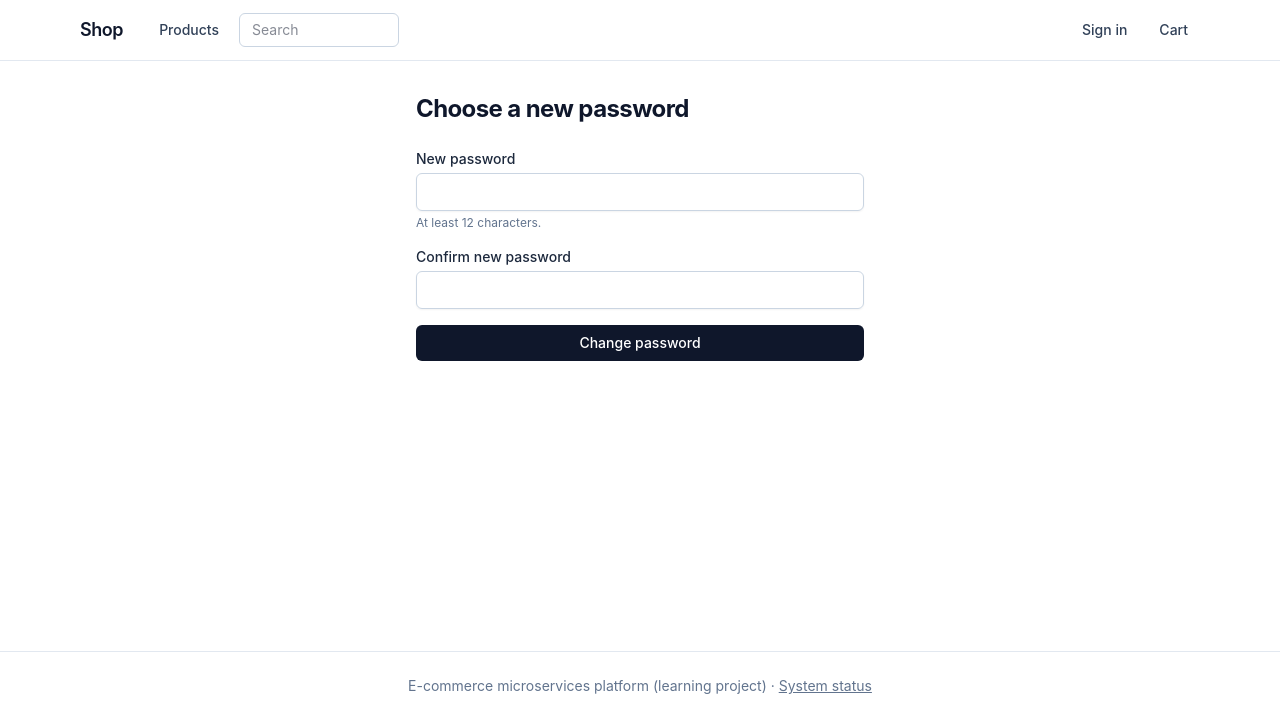
Test case: reset password link › removes the secret token from the address bar as soon as it is read, and uses it
The width and height of the screenshot is (1280, 720).
In the password field labelled "New password": (640, 192) [416, 173, 864, 211], type "a brand new passphrase"
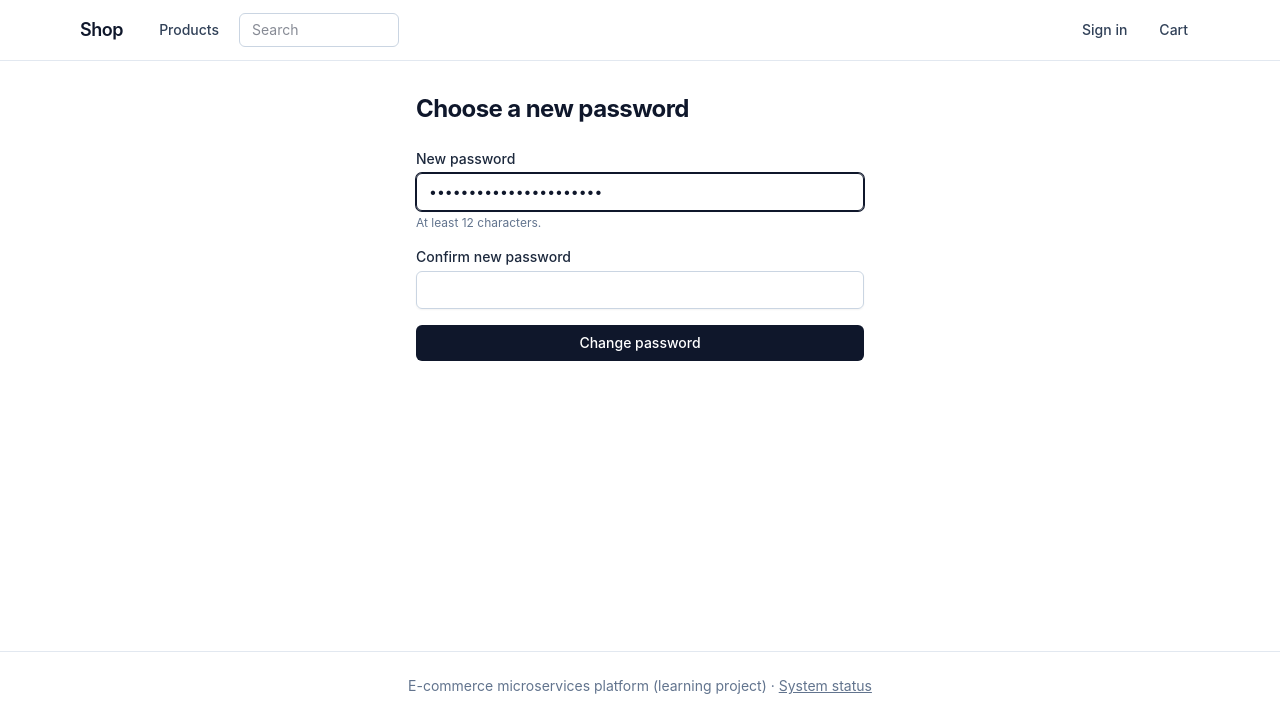
In the password field labelled "Confirm new password": (640, 290) [416, 271, 864, 309], type "a brand new passphrase"
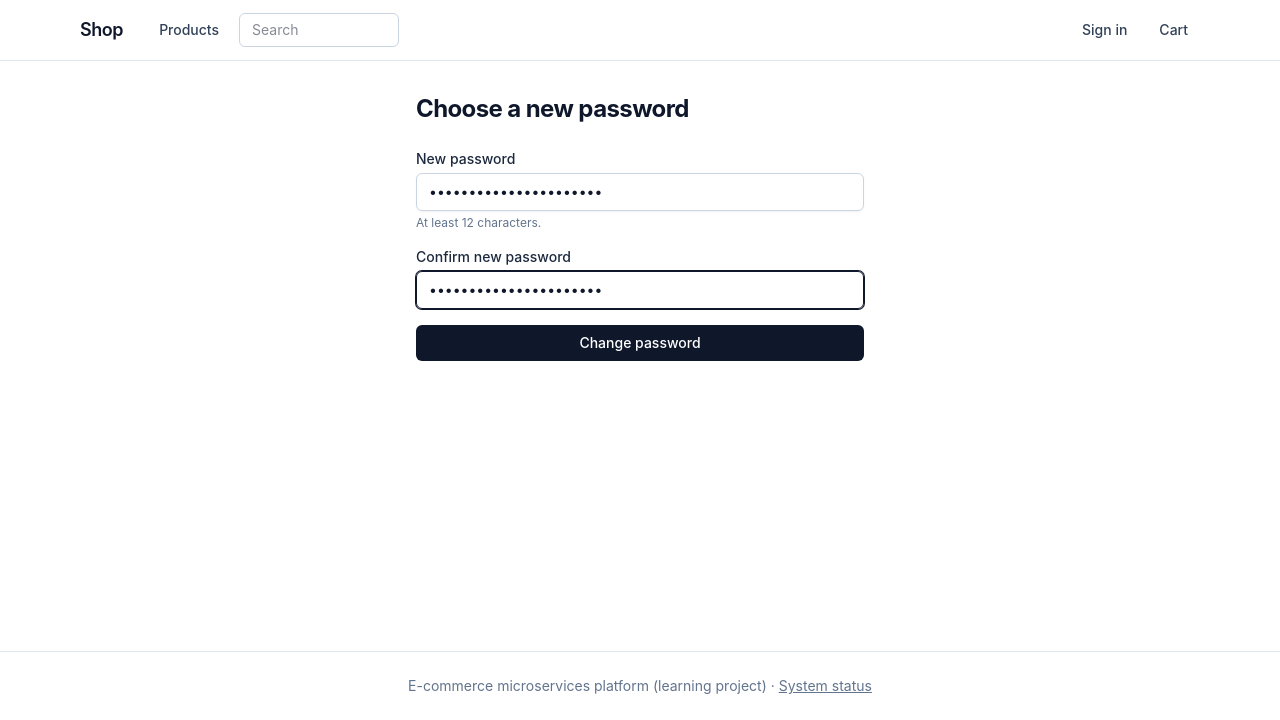
Click the button "Change password": (640, 343) [416, 325, 864, 361]
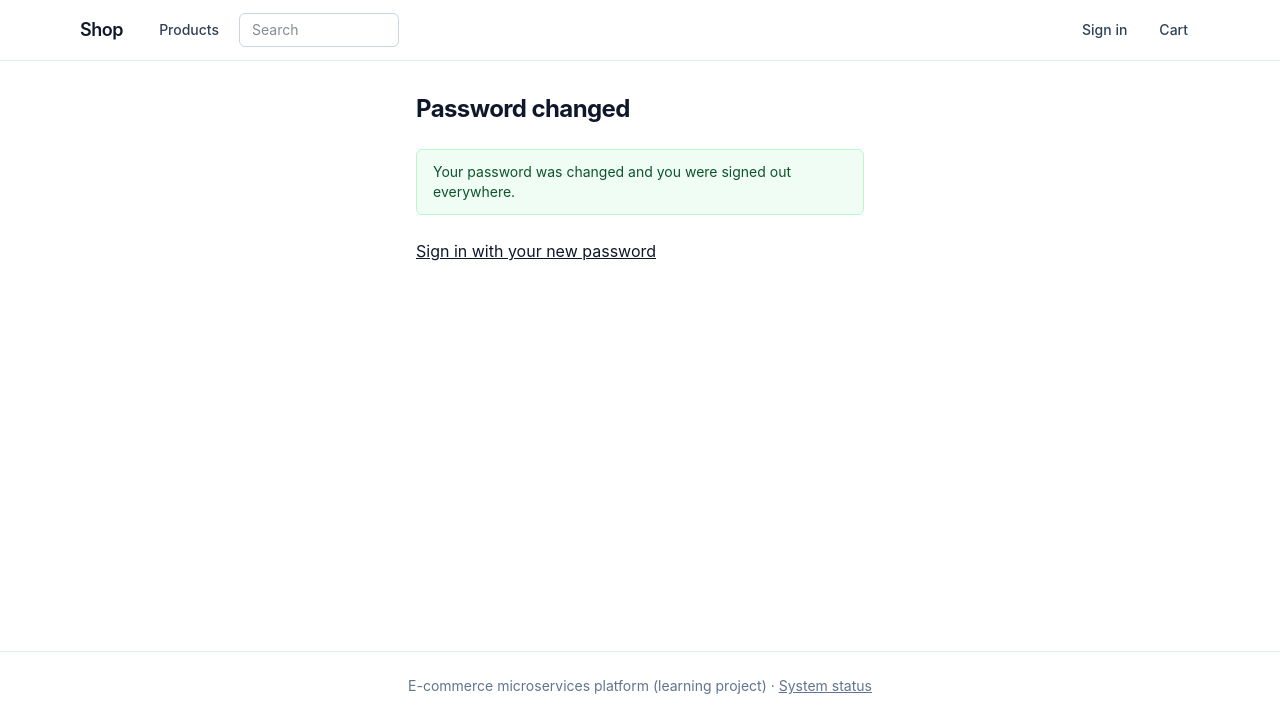
Expected: the text "Your password was changed and you were signed out everywhere." is shown, [416, 149, 864, 215]
